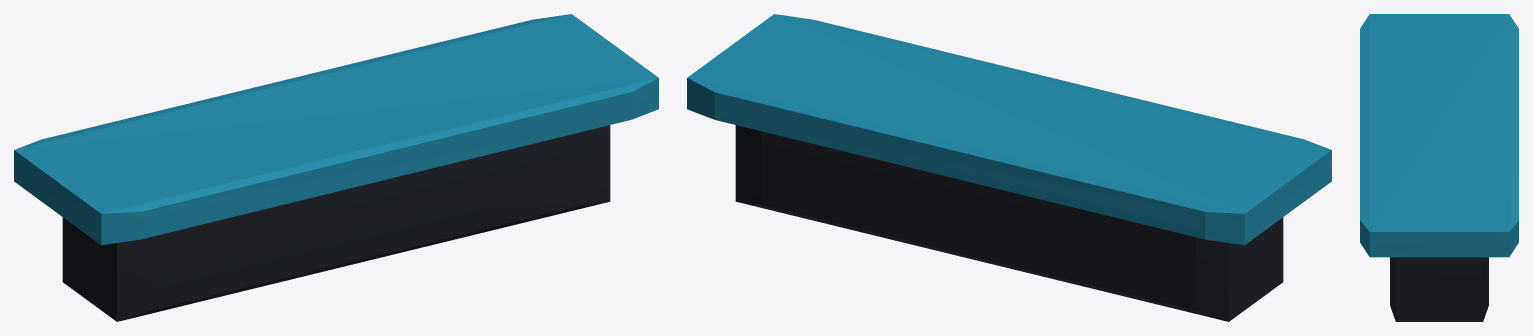
The model's file is bench.glb.
The picture shows the model from 3 angles, left to right: view 1: azimuth 30°, elevation 25°; view 2: azimuth 150°, elevation 25°; view 3: azimuth 270°, elevation 25°; orthographic projection. The views are drawn at different scales.
Size of the model in its own units: 2.6 by 0.57 by 0.8.
